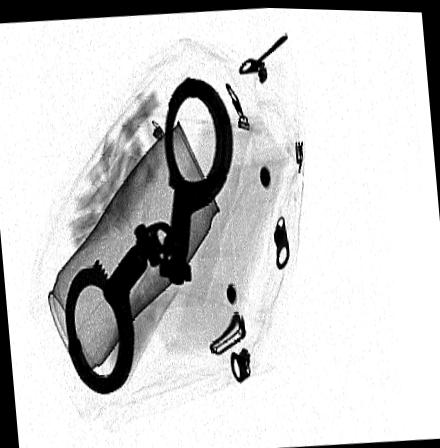HandCuffs: (64, 74, 233, 393)
